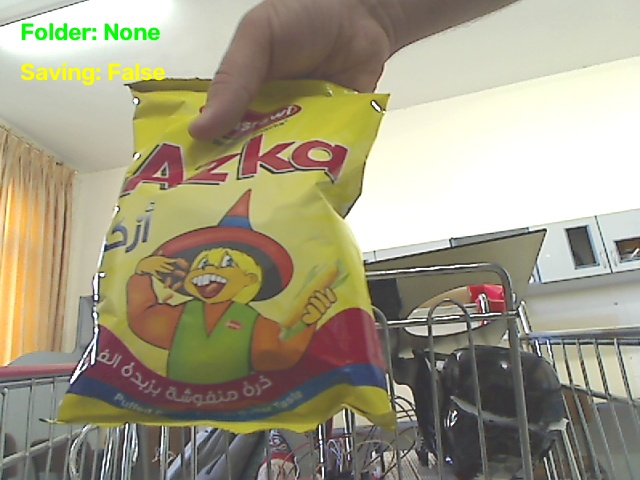chips: (58, 80, 394, 432)
